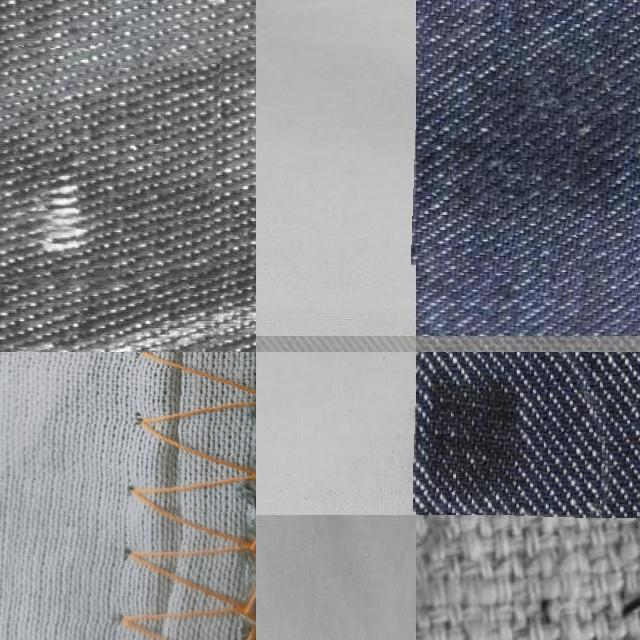Hole: (413, 0, 640, 273), (414, 352, 640, 516)
Stitch: (10, 352, 256, 640)
Thread_other: (0, 48, 217, 287)
